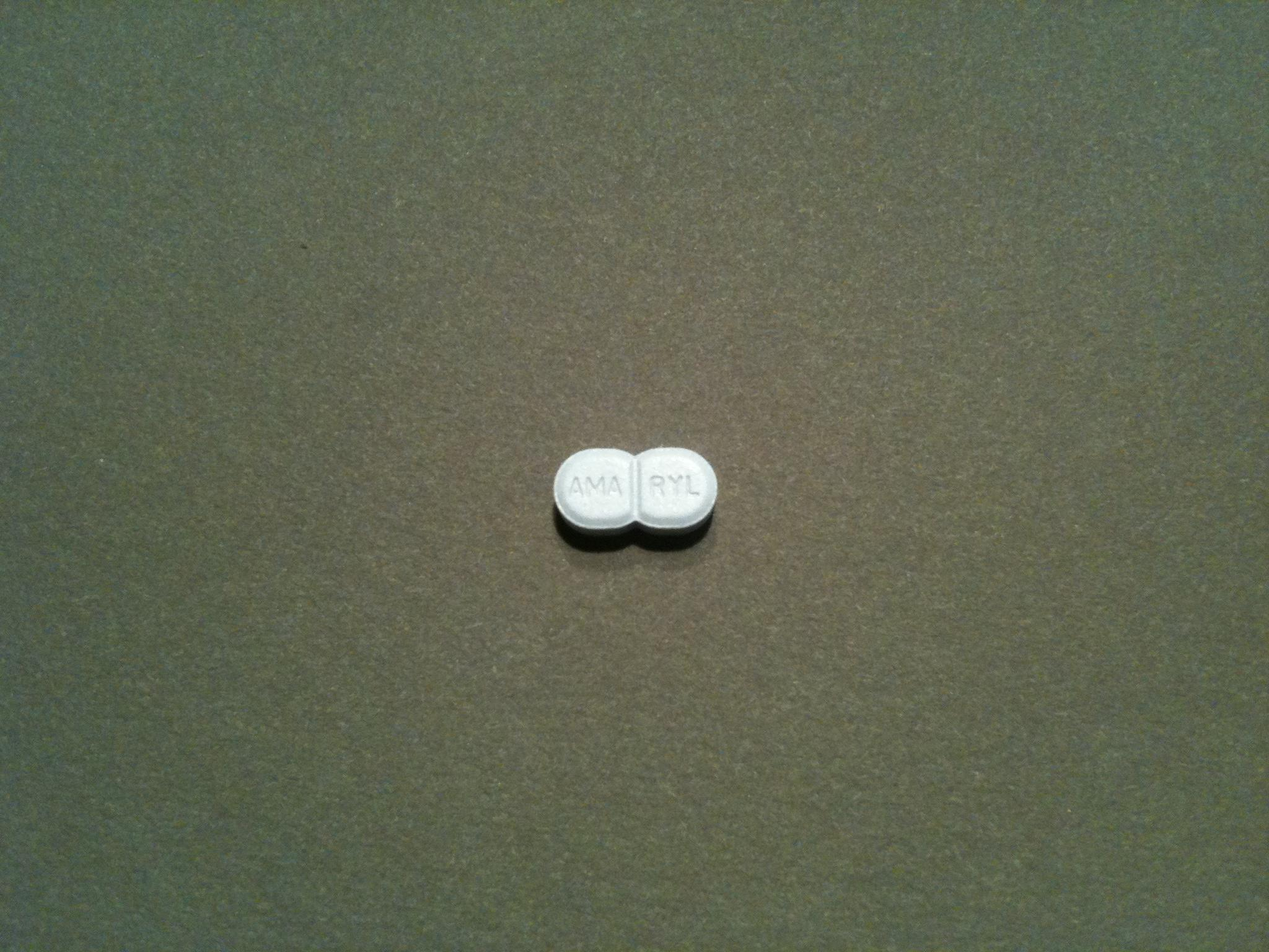Pill: (534, 426, 742, 572)
